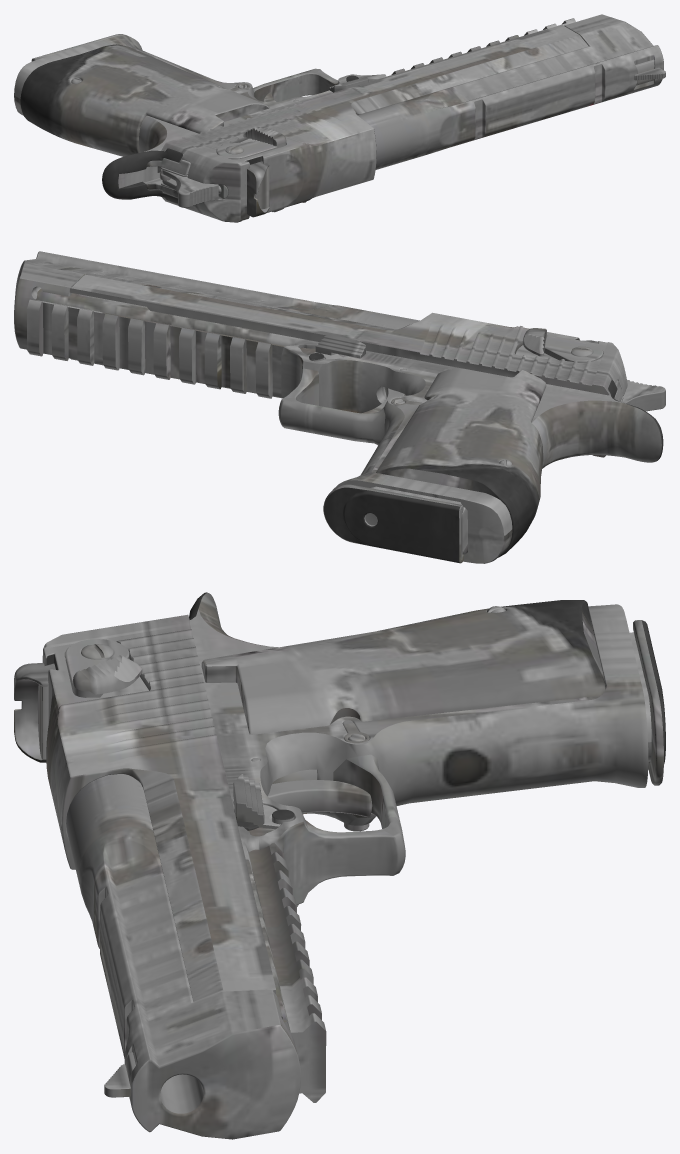
The model's file is w_deagle.glb.
3 renders of one model, top to bottom at view 1: azimuth 30°, elevation 25°; view 2: azimuth 150°, elevation 25°; view 3: azimuth 270°, elevation 25°, orthographic. The views are drawn at different scales.
Visible parts, largest first — view 1: w_deagle; view 2: w_deagle; view 3: w_deagle.
Part boxes in pixels (x1,y1,x2,y2): w_deagle: [14, 14, 665, 222]; w_deagle: [14, 251, 665, 563]; w_deagle: [14, 592, 665, 1139].
Bounding box in the file's own units: 0.4451 × 0.0668 × 0.2586.
1 material, 1 textured.
